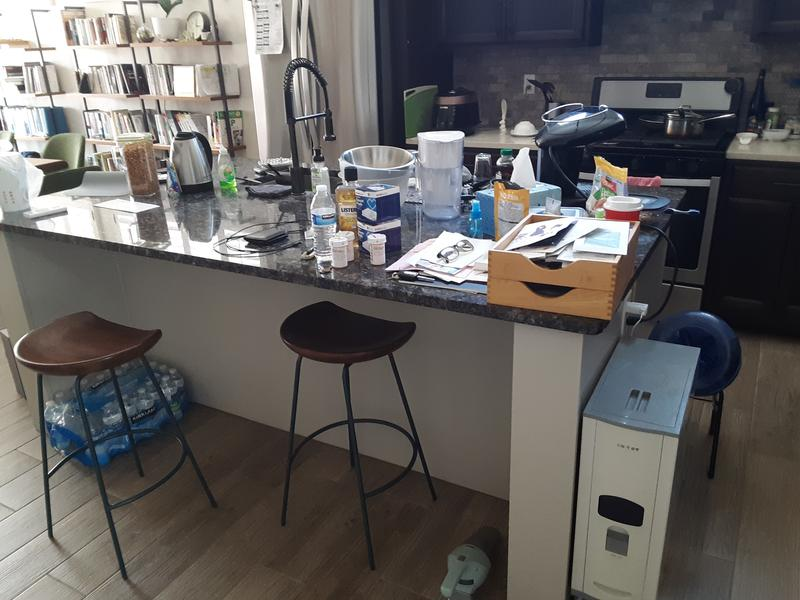glasses: (435, 238, 475, 264)
